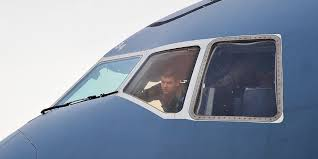bullseye: (227, 87, 240, 97)
